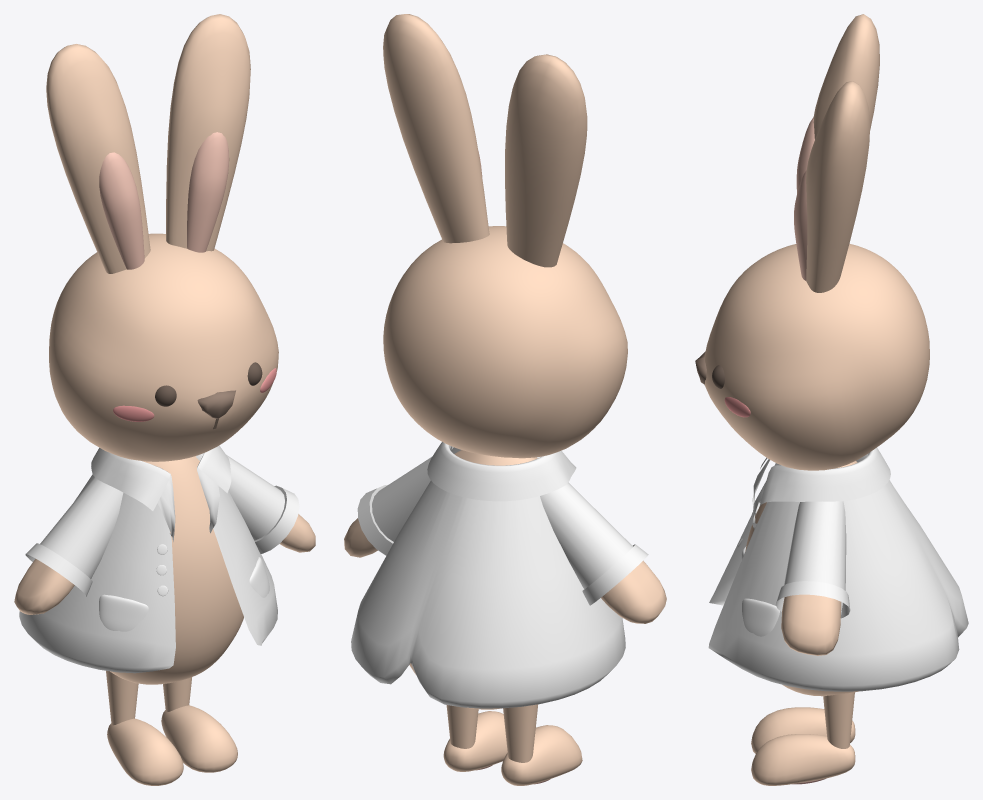
The picture shows the model from 3 angles, left to right: view 1: azimuth 30°, elevation 25°; view 2: azimuth 150°, elevation 25°; view 3: azimuth 270°, elevation 25°; orthographic projection. The views are drawn at different scales.
Visible parts, largest first — view 1: head, tee, BODY, pasted__pCube3, pCube3, t_l, t_head, pasted__pasted__pCube4, pasted__foot, pasted__pCube4, foot, pCube6 (+5 smaller); view 2: head, tee, pasted__pCube3, pCube3, t_l, t_head, BODY, pasted__foot, foot, pasted__leg, leg; view 3: head, tee, pasted__pCube3, t_l, t_head, foot, pCube3, BODY, pasted__foot, leg, pCube6, pasted__pasted__pCube4 (+1 smaller).
Part boxes in pixels (bbox=[...]): head: bbox=[49, 233, 278, 461]; tee: bbox=[19, 453, 277, 673]; BODY: bbox=[14, 456, 315, 684]; pasted__pCube3: bbox=[166, 14, 250, 251]; pCube3: bbox=[46, 44, 150, 273]; t_l: bbox=[25, 453, 299, 596]; t_head: bbox=[91, 445, 231, 541]; pasted__pasted__pCube4: bbox=[187, 132, 229, 252]; pasted__foot: bbox=[107, 718, 183, 785]; pasted__pCube4: bbox=[99, 152, 144, 269]; foot: bbox=[161, 705, 237, 772]; pCube6: bbox=[99, 557, 269, 631]; head: bbox=[383, 226, 627, 458]; tee: bbox=[351, 446, 625, 708]; pasted__pCube3: bbox=[383, 14, 489, 243]; pCube3: bbox=[505, 54, 587, 267]; t_l: bbox=[357, 447, 648, 605]; t_head: bbox=[427, 442, 576, 501]; BODY: bbox=[344, 450, 666, 709]; pasted__foot: bbox=[501, 725, 582, 785]; foot: bbox=[443, 711, 507, 771]; pasted__leg: bbox=[503, 704, 538, 762]; leg: bbox=[446, 705, 478, 748]; head: bbox=[704, 243, 929, 470]; tee: bbox=[708, 454, 968, 691]; pasted__pCube3: bbox=[806, 81, 870, 292]; t_l: bbox=[775, 501, 850, 618]; t_head: bbox=[752, 447, 890, 528]; foot: bbox=[751, 734, 855, 785]; pCube3: bbox=[813, 14, 879, 139]; BODY: bbox=[745, 461, 858, 696]; pasted__foot: bbox=[751, 707, 855, 753]; leg: bbox=[823, 692, 854, 748]; pCube6: bbox=[741, 546, 779, 636]; pasted__pasted__pCube4: bbox=[794, 170, 807, 280].
Size of the model in its own units: 9.05 by 21.16 by 7.29.
